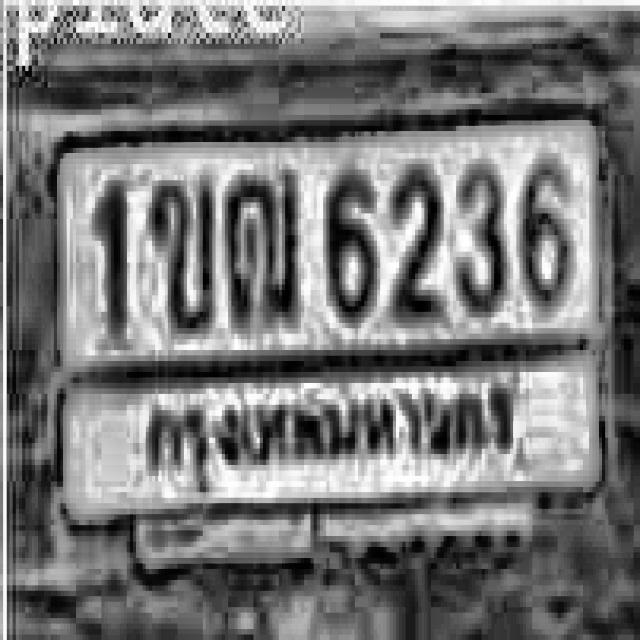license-plate: (18, 92, 640, 589)
